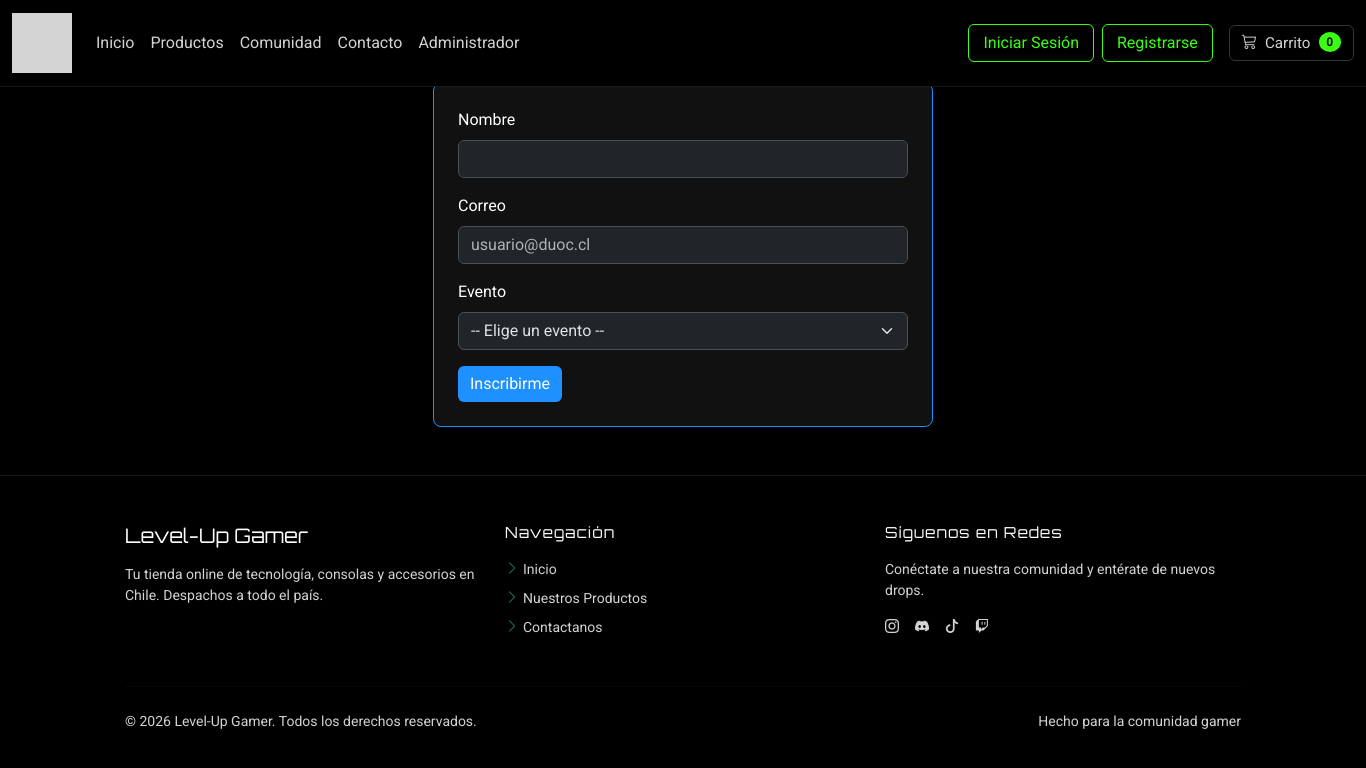
it: Comprobar que el formulario avisa cuando se envía vacío
The image size is (1366, 768).
(page scrolled)
Click the button "Inscribirme": (510, 384) [458, 366, 562, 402]
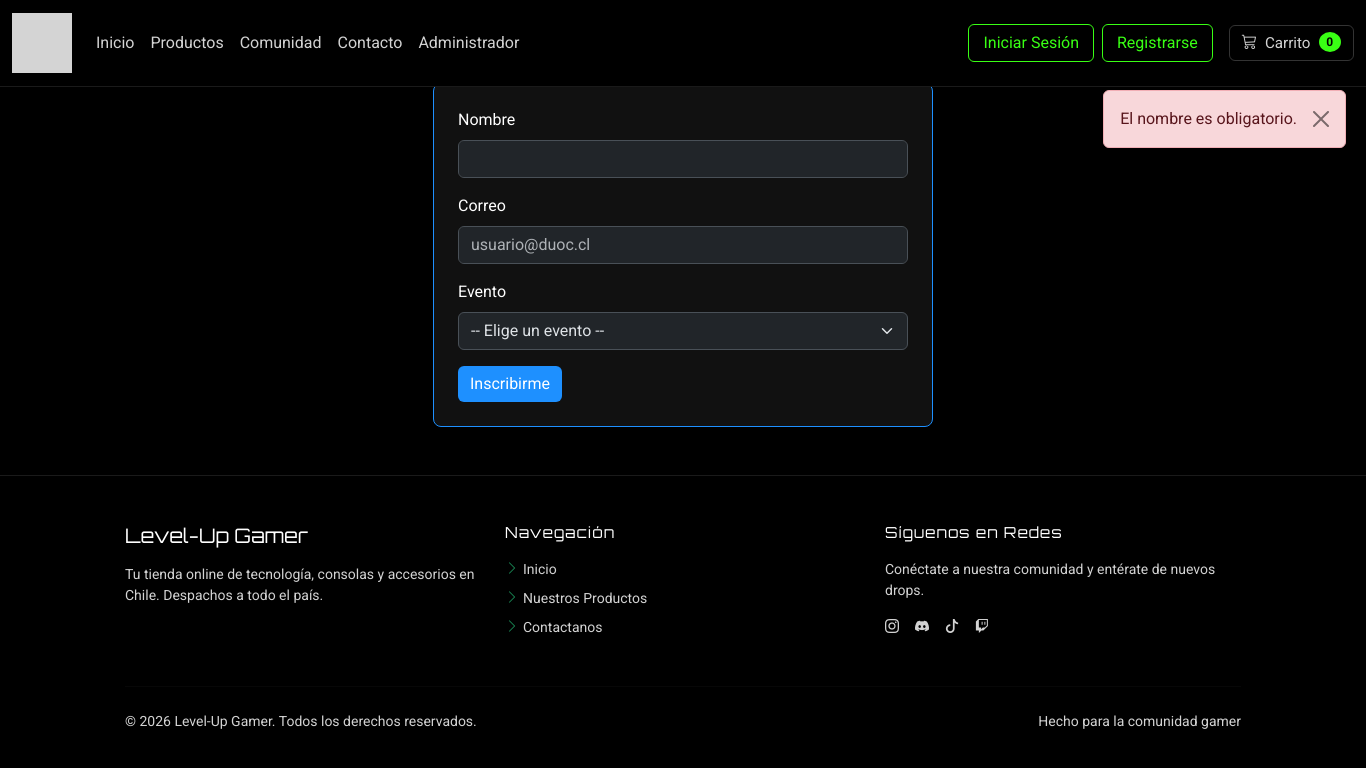
Expected: the text "El nombre es obligatorio." is shown, [1103, 90, 1346, 148]
